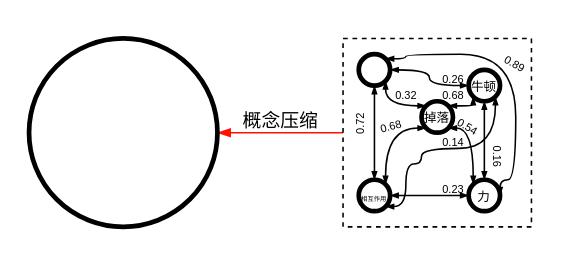
The diagram is 582 pixels wide and 257 high, and some of its shapes have lost their labels. Each missing label, with the centre of its shape:
"万有引力定律" belongs at (x=122, y=131).
"苹果" belongs at (x=374, y=69).
